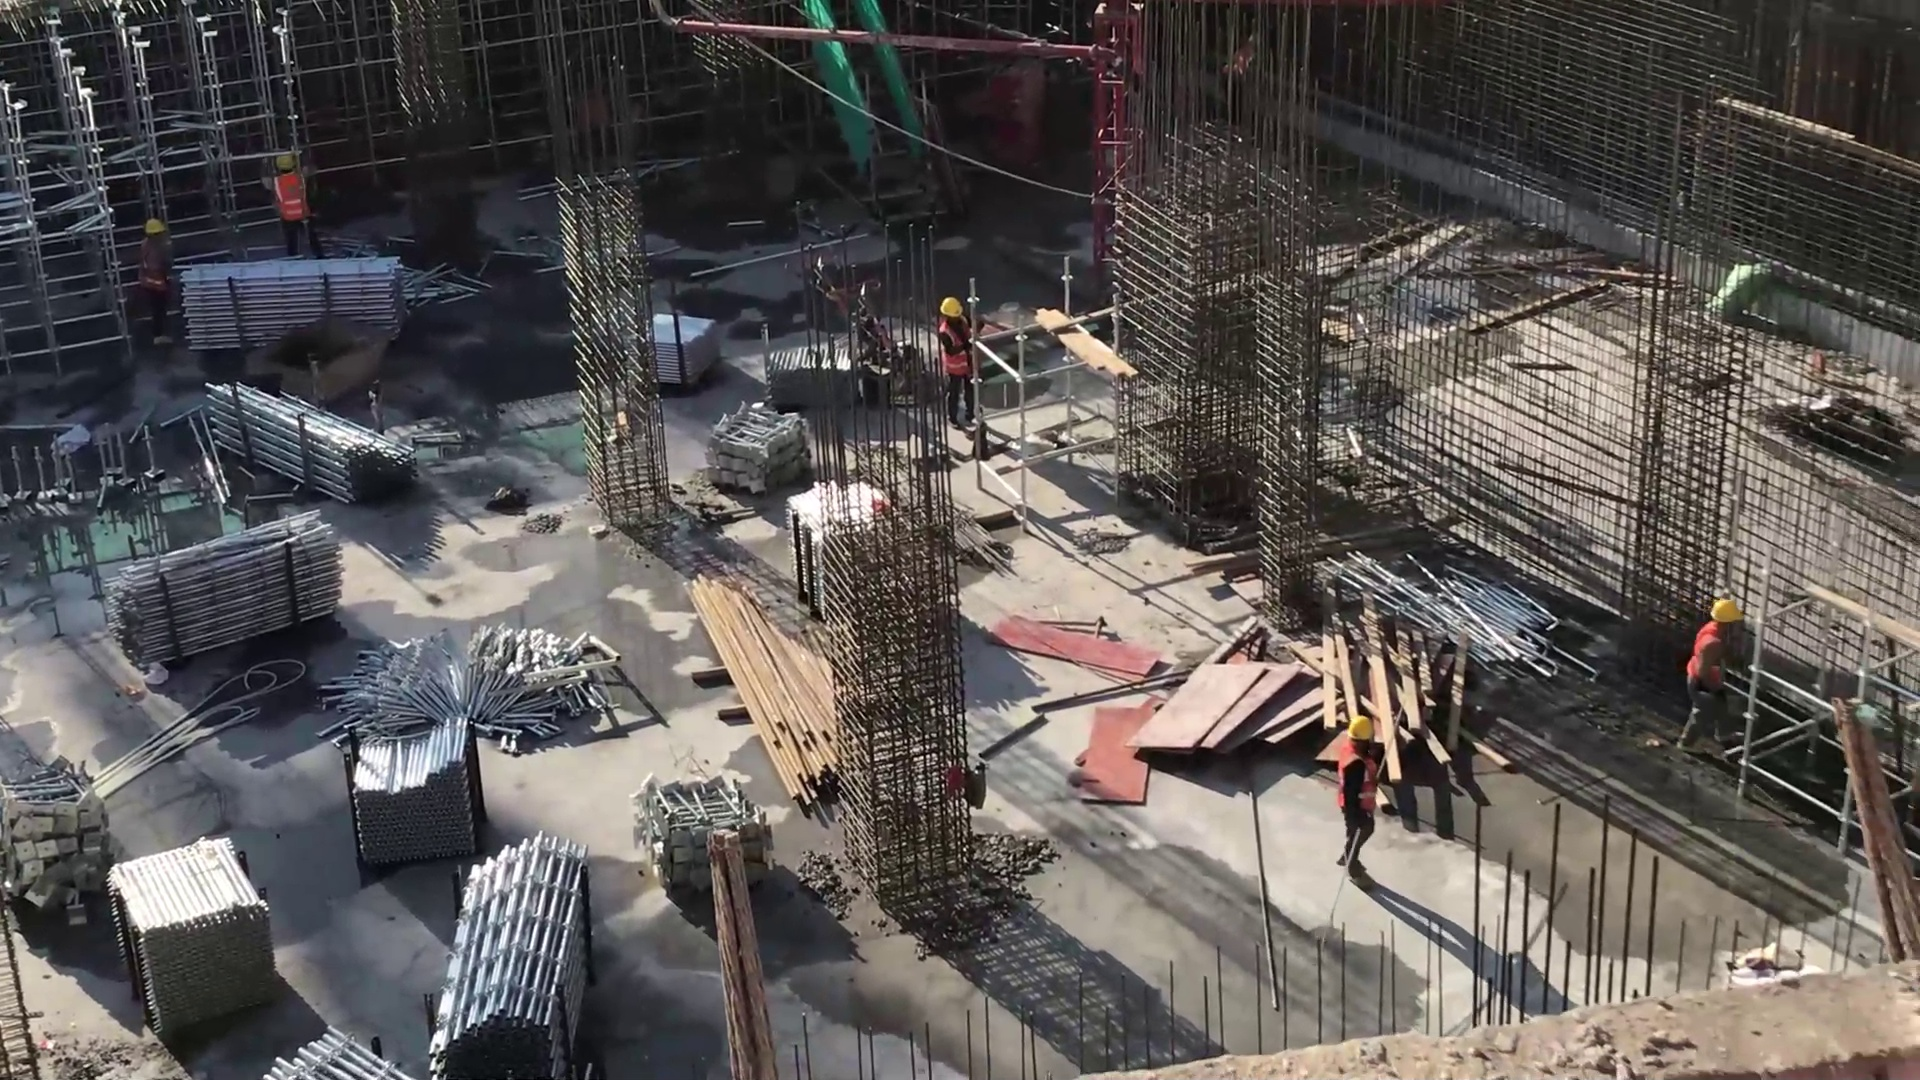board: (1140, 650, 1309, 788)
helmet: (1343, 719, 1373, 742), (1710, 599, 1740, 621), (941, 294, 961, 318), (275, 157, 294, 171), (144, 221, 163, 234)
person: (1675, 593, 1735, 750), (1332, 715, 1385, 872), (939, 288, 985, 437), (131, 215, 178, 330), (269, 141, 309, 257)
scaffold: (431, 842, 577, 1080), (112, 511, 346, 642), (121, 837, 273, 1026), (1346, 551, 1563, 680), (206, 376, 409, 507), (188, 262, 412, 354), (346, 726, 473, 865), (651, 307, 728, 395), (285, 1024, 396, 1080), (766, 330, 821, 410)
vest: (940, 322, 973, 378), (275, 176, 308, 223)
wood: (696, 576, 847, 783), (1331, 620, 1459, 779)
